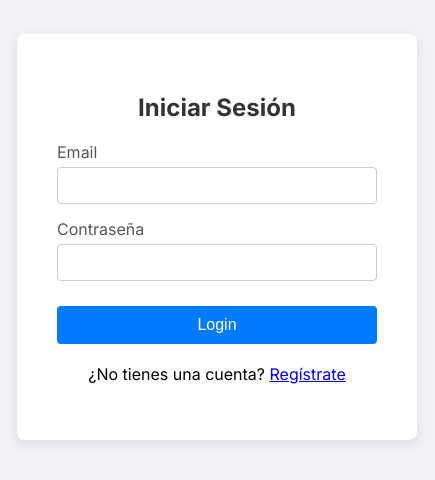
Scenario: Login › should display an error message on failed login
Step 1. Type "wrong@example.com" into the field labelled "Email" → (217, 186), box [57,168,377,204]
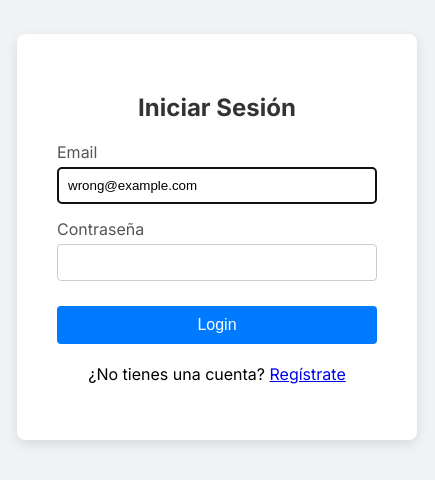
Step 2. Type "wrongpassword" into the password field labelled "Contraseña" → (217, 263), box [57,244,377,282]
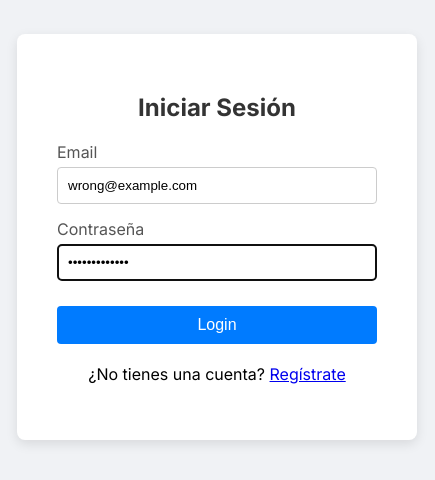
Step 3. Click the button "Login" → (217, 326), box [57,306,377,344]
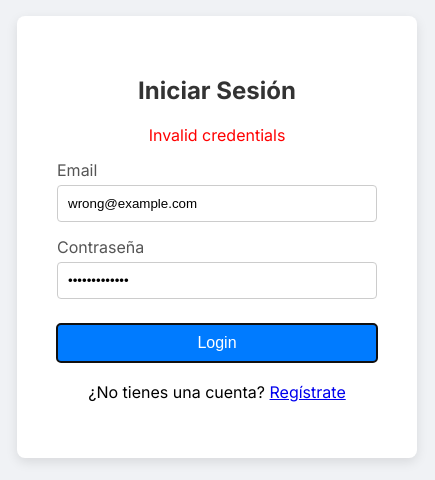
Now the text "Invalid credentials" is shown, box [149,125,285,145]
